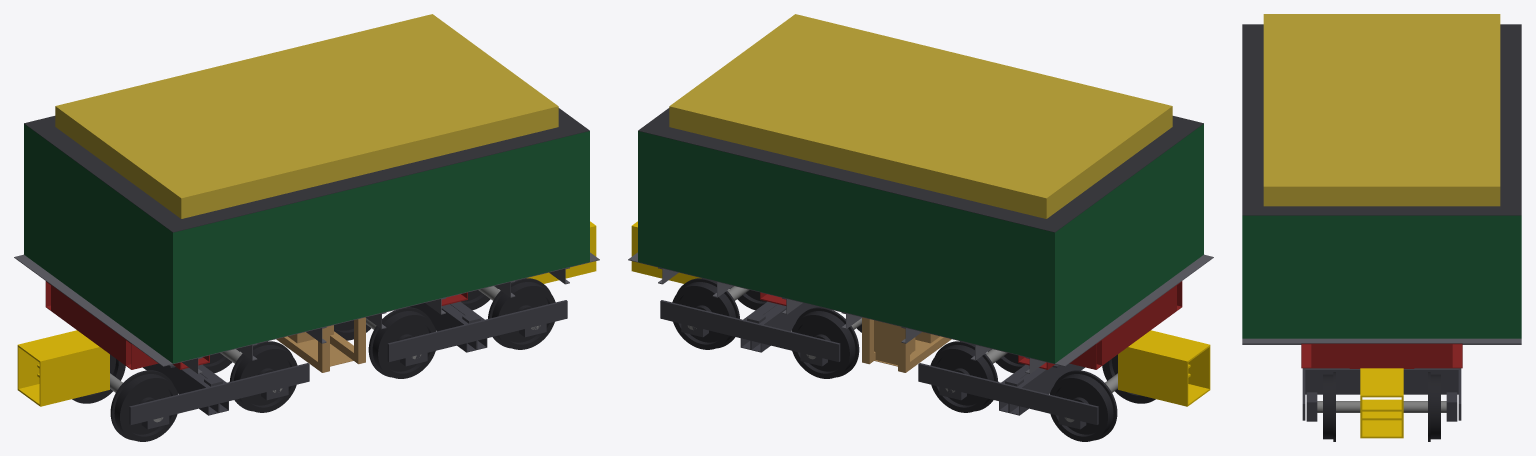
The model's file is PF-T200_tender.glb.
The picture shows the model from 3 angles, left to right: view 1: azimuth 30°, elevation 25°; view 2: azimuth 150°, elevation 25°; view 3: azimuth 270°, elevation 25°; orthographic projection. The views are drawn at different scales.
Parts seen in each view (by area): view 1: 143 tender side skin 10 ga (3.4 mm) on posts @500 + 50 mm li, 185 coal-effect cover top 1.5 mm (16 ga) formed steel, remov, 144 tender end skin 10 ga (3.4 mm) on posts @500 + 50 mm lin, 146 tender flat roof 10 ga (3.4 mm) on HSS2x2x1-8 bows @500 , 187 coal-effect cover side skirt 1.5 mm, 081 tender front drop drawbar box PL16, 036 sideframe PL25 tender, 074 sideframe PL25 tender, 188 coal-effect cover end skirt 1.5 mm, 087 tender deck 6 mm tread plate (sealed metal spill floor), 002 tender crossmember HSS10x4x1-4, 018 wheel tread rim 50 deep tender (+11 smaller); view 2: 142 tender side skin 10 ga (3.4 mm) on posts @500 + 50 mm li, 185 coal-effect cover top 1.5 mm (16 ga) formed steel, remov, 144 tender end skin 10 ga (3.4 mm) on posts @500 + 50 mm lin, 146 tender flat roof 10 ga (3.4 mm) on HSS2x2x1-8 bows @500 , 186 coal-effect cover side skirt 1.5 mm, 081 tender front drop drawbar box PL16, 035 sideframe PL25 tender, 073 sideframe PL25 tender, 188 coal-effect cover end skirt 1.5 mm, 087 tender deck 6 mm tread plate (sealed metal spill floor), 002 tender crossmember HSS10x4x1-4, 014 wheel tread rim 50 deep tender (+12 smaller); view 3: 185 coal-effect cover top 1.5 mm (16 ga) formed steel, remov, 145 tender end skin 10 ga (3.4 mm) on posts @500 + 50 mm lin, 146 tender flat roof 10 ga (3.4 mm) on HSS2x2x1-8 bows @500 , 189 coal-effect cover end skirt 1.5 mm, 003 tender crossmember HSS10x4x1-4, 076 transom HSS10x4x1-4 (upright, pair) tender, 084 tender rear drop drawbar box PL16, 087 tender deck 6 mm tread plate (sealed metal spill floor), 062 axle tender, 063 wheel tread rim 50 deep tender, 067 wheel tread rim 50 deep tender, 085 tender rear pocket top plate PL20 (+5 smaller).
Boxes of the visible parts, x1=… form: 143 tender side skin 10 ga (3.4 mm) on posts @500 + 50 mm li: x1=172, y1=131, x2=589, y2=363; 185 coal-effect cover top 1.5 mm (16 ga) formed steel, remov: x1=55, y1=14, x2=558, y2=198; 144 tender end skin 10 ga (3.4 mm) on posts @500 + 50 mm lin: x1=24, y1=124, x2=172, y2=362; 146 tender flat roof 10 ga (3.4 mm) on HSS2x2x1-8 bows @500 : x1=24, y1=108, x2=589, y2=232; 187 coal-effect cover side skirt 1.5 mm: x1=181, y1=106, x2=558, y2=218; 081 tender front drop drawbar box PL16: x1=17, y1=330, x2=109, y2=406; 036 sideframe PL25 tender: x1=129, y1=363, x2=309, y2=424; 074 sideframe PL25 tender: x1=387, y1=300, x2=567, y2=361; 188 coal-effect cover end skirt 1.5 mm: x1=55, y1=106, x2=181, y2=218; 087 tender deck 6 mm tread plate (sealed metal spill floor): x1=14, y1=252, x2=599, y2=366; 002 tender crossmember HSS10x4x1-4: x1=51, y1=285, x2=125, y2=365; 018 wheel tread rim 50 deep tender: x1=114, y1=374, x2=178, y2=441; 142 tender side skin 10 ga (3.4 mm) on posts @500 + 50 mm li: x1=638, y1=131, x2=1055, y2=363; 185 coal-effect cover top 1.5 mm (16 ga) formed steel, remov: x1=669, y1=14, x2=1172, y2=198; 144 tender end skin 10 ga (3.4 mm) on posts @500 + 50 mm lin: x1=1055, y1=124, x2=1203, y2=362; 146 tender flat roof 10 ga (3.4 mm) on HSS2x2x1-8 bows @500 : x1=638, y1=108, x2=1203, y2=232; 186 coal-effect cover side skirt 1.5 mm: x1=669, y1=106, x2=1046, y2=218; 081 tender front drop drawbar box PL16: x1=1118, y1=330, x2=1210, y2=406; 035 sideframe PL25 tender: x1=918, y1=363, x2=1098, y2=424; 073 sideframe PL25 tender: x1=660, y1=300, x2=840, y2=361; 188 coal-effect cover end skirt 1.5 mm: x1=1046, y1=106, x2=1172, y2=218; 087 tender deck 6 mm tread plate (sealed metal spill floor): x1=628, y1=252, x2=1213, y2=366; 002 tender crossmember HSS10x4x1-4: x1=1102, y1=285, x2=1176, y2=365; 014 wheel tread rim 50 deep tender: x1=1049, y1=374, x2=1113, y2=441; 185 coal-effect cover top 1.5 mm (16 ga) formed steel, remov: x1=1263, y1=14, x2=1500, y2=186; 145 tender end skin 10 ga (3.4 mm) on posts @500 + 50 mm lin: x1=1242, y1=215, x2=1521, y2=338; 146 tender flat roof 10 ga (3.4 mm) on HSS2x2x1-8 bows @500 : x1=1242, y1=24, x2=1521, y2=215; 189 coal-effect cover end skirt 1.5 mm: x1=1264, y1=187, x2=1499, y2=206; 003 tender crossmember HSS10x4x1-4: x1=1312, y1=343, x2=1451, y2=368; 076 transom HSS10x4x1-4 (upright, pair) tender: x1=1305, y1=368, x2=1458, y2=394; 084 tender rear drop drawbar box PL16: x1=1360, y1=368, x2=1403, y2=438; 087 tender deck 6 mm tread plate (sealed metal spill floor): x1=1242, y1=338, x2=1521, y2=343; 062 axle tender: x1=1317, y1=401, x2=1446, y2=412; 063 wheel tread rim 50 deep tender: x1=1430, y1=374, x2=1440, y2=439; 067 wheel tread rim 50 deep tender: x1=1323, y1=374, x2=1333, y2=439; 085 tender rear pocket top plate PL20: x1=1362, y1=399, x2=1401, y2=411.
Bounding box in the file's own units: 5600 × 2585 × 2600.
